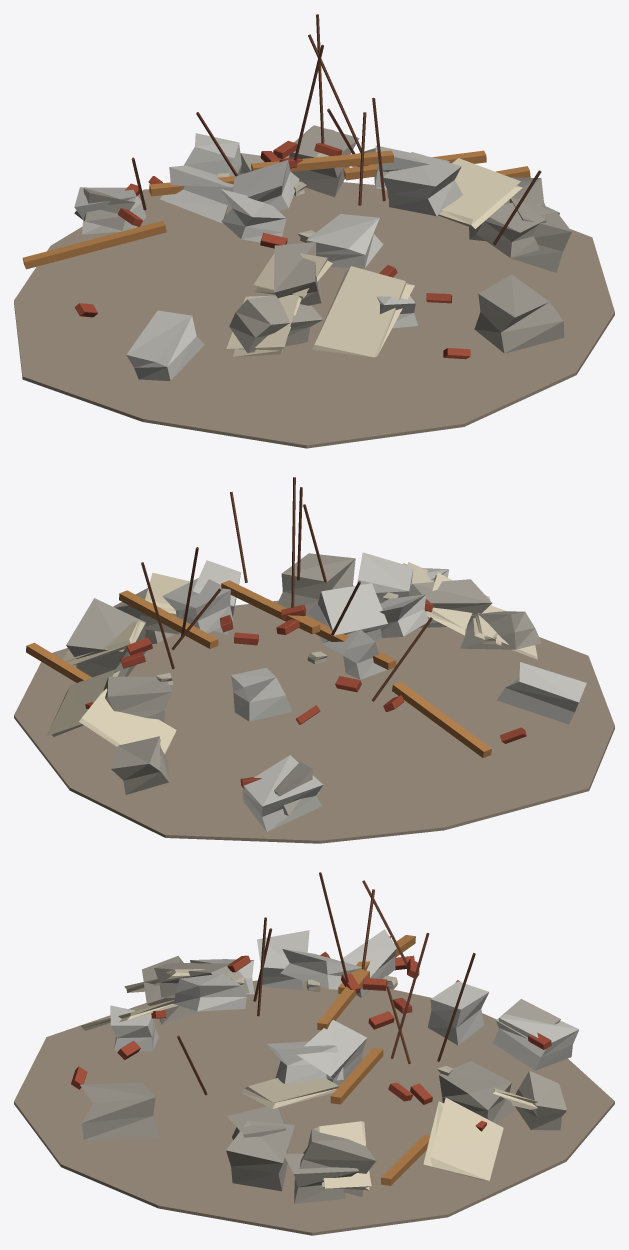
The model's file is DESTROY_12.obj.
The picture shows the model from 3 angles, top to bottom: view 1: azimuth 30°, elevation 25°; view 2: azimuth 150°, elevation 25°; view 3: azimuth 270°, elevation 25°; orthographic projection. The views are drawn at different scales.
Visible parts, largest first — view 1: DESTROY_12__base_dust, DESTROY_12__concrete_blocks, DESTROY_12__panels, DESTROY_12__timber, DESTROY_12__rebar, DESTROY_12__bricks; view 2: DESTROY_12__base_dust, DESTROY_12__concrete_blocks, DESTROY_12__panels, DESTROY_12__timber, DESTROY_12__rebar, DESTROY_12__bricks, DESTROY_12__mortar_chunks; view 3: DESTROY_12__base_dust, DESTROY_12__concrete_blocks, DESTROY_12__panels, DESTROY_12__bricks, DESTROY_12__timber, DESTROY_12__rebar, DESTROY_12__mortar_chunks.
Boxes of the visible parts, left/top/right/bottom form: DESTROY_12__base_dust: left=14, top=182, right=614, bottom=448; DESTROY_12__concrete_blocks: left=74, top=125, right=571, bottom=380; DESTROY_12__panels: left=226, top=126, right=522, bottom=357; DESTROY_12__timber: left=22, top=150, right=530, bottom=269; DESTROY_12__rebar: left=131, top=14, right=541, bottom=245; DESTROY_12__bricks: left=74, top=140, right=470, bottom=359; DESTROY_12__base_dust: left=14, top=600, right=614, bottom=843; DESTROY_12__concrete_blocks: left=66, top=552, right=586, bottom=831; DESTROY_12__panels: left=47, top=562, right=537, bottom=754; DESTROY_12__timber: left=26, top=580, right=491, bottom=757; DESTROY_12__rebar: left=141, top=477, right=432, bottom=701; DESTROY_12__bricks: left=85, top=599, right=526, bottom=788; DESTROY_12__mortar_chunks: left=156, top=592, right=497, bottom=685; DESTROY_12__base_dust: left=14, top=980, right=614, bottom=1235; DESTROY_12__concrete_blocks: left=80, top=929, right=579, bottom=1203; DESTROY_12__panels: left=80, top=969, right=537, bottom=1190; DESTROY_12__bricks: left=71, top=951, right=551, bottom=1131; DESTROY_12__timber: left=317, top=935, right=430, bottom=1185; DESTROY_12__rebar: left=177, top=872, right=475, bottom=1095; DESTROY_12__mortar_chunks: left=231, top=975, right=453, bottom=1075.
Size of the model in its own units: 5.8 by 2.5 by 5.65.
